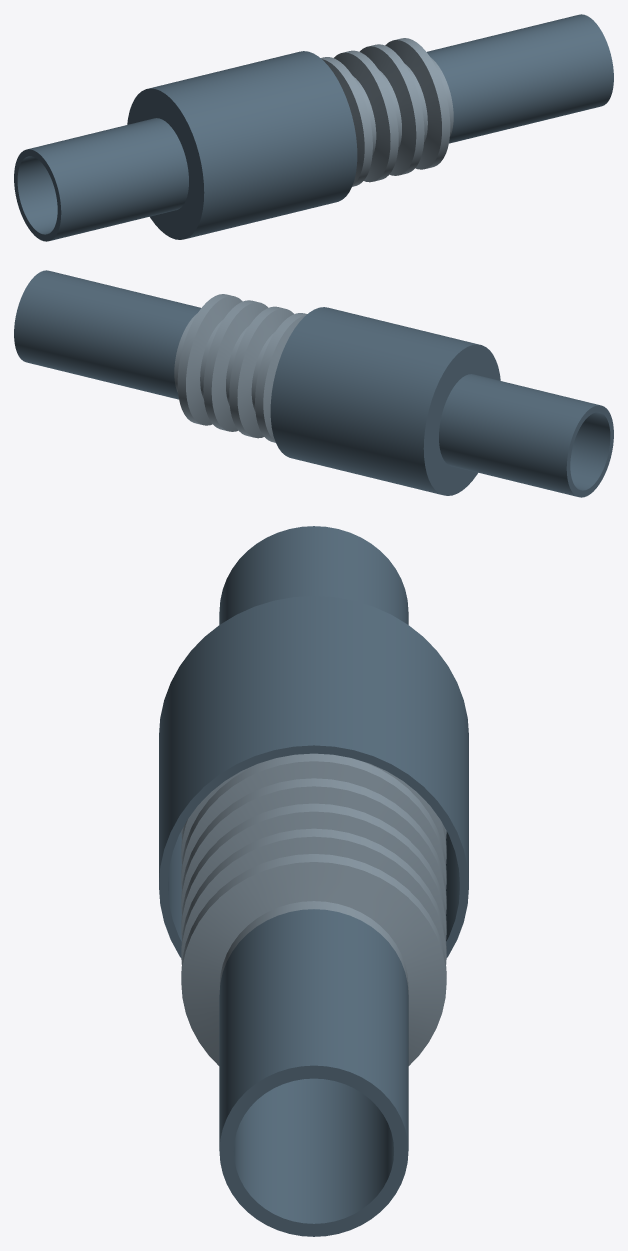
The model's file is silf-dn32-L285-D42_2-k-o60_3.glb.
3 renders of one model, top to bottom at view 1: azimuth 30°, elevation 25°; view 2: azimuth 150°, elevation 25°; view 3: azimuth 270°, elevation 25°, orthographic. The views are drawn at different scales.
Visible parts, largest first — view 1: osnovanie_kozhuh_1, patrubok_1, patrubok_2, prokladka_silfon_1; view 2: osnovanie_kozhuh_1, patrubok_1, patrubok_2, prokladka_silfon_1; view 3: patrubok_2, osnovanie_kozhuh_1, prokladka_silfon_1, patrubok_1.
Boxes of the visible parts, x1=… form: osnovanie_kozhuh_1: x1=127, y1=51, x2=357, y2=239; patrubok_1: x1=14, y1=118, x2=188, y2=241; patrubok_2: x1=427, y1=14, x2=613, y2=143; prokladka_silfon_1: x1=321, y1=38, x2=453, y2=186; osnovanie_kozhuh_1: x1=270, y1=307, x2=500, y2=495; patrubok_1: x1=439, y1=374, x2=613, y2=497; patrubok_2: x1=14, y1=270, x2=200, y2=399; prokladka_silfon_1: x1=174, y1=294, x2=306, y2=442; patrubok_2: x1=219, y1=909, x2=408, y2=1236; osnovanie_kozhuh_1: x1=159, y1=596, x2=468, y2=957; prokladka_silfon_1: x1=181, y1=753, x2=446, y2=1065; patrubok_1: x1=219, y1=526, x2=408, y2=624.
Bounding box in the file's own units: 285 × 69.26 × 69.26.
